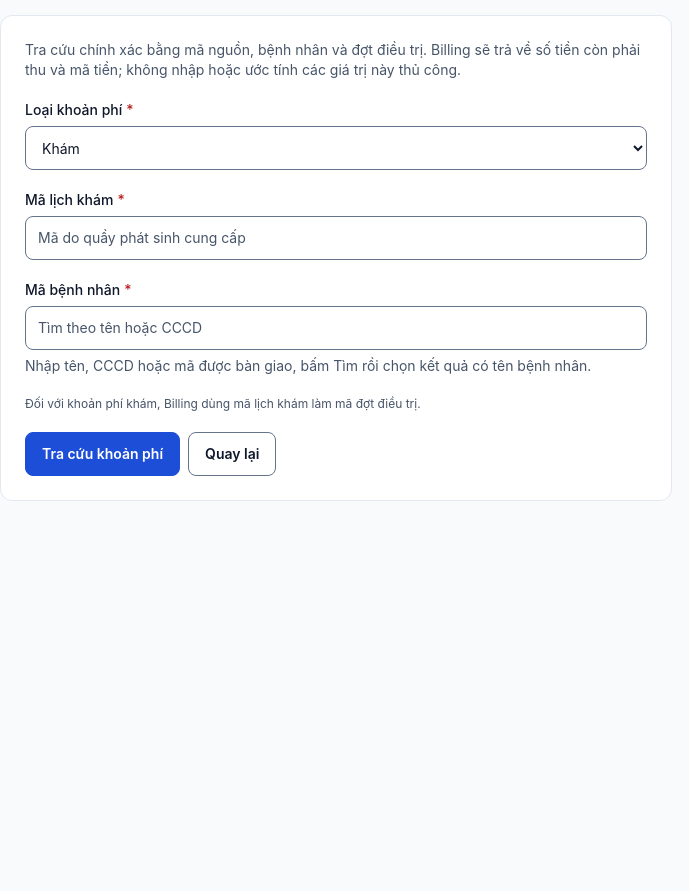
Test: PaymentRequestLookupForm › refreshes the authoritative balance after payment and preserves the receipt if refresh fails
The width and height of the screenshot is (689, 891).
Type "00000000-0000-4000-8000-000000000002" into the field labelled "Mã lịch khám" at (336, 238), box left=25, top=216, right=647, bottom=260
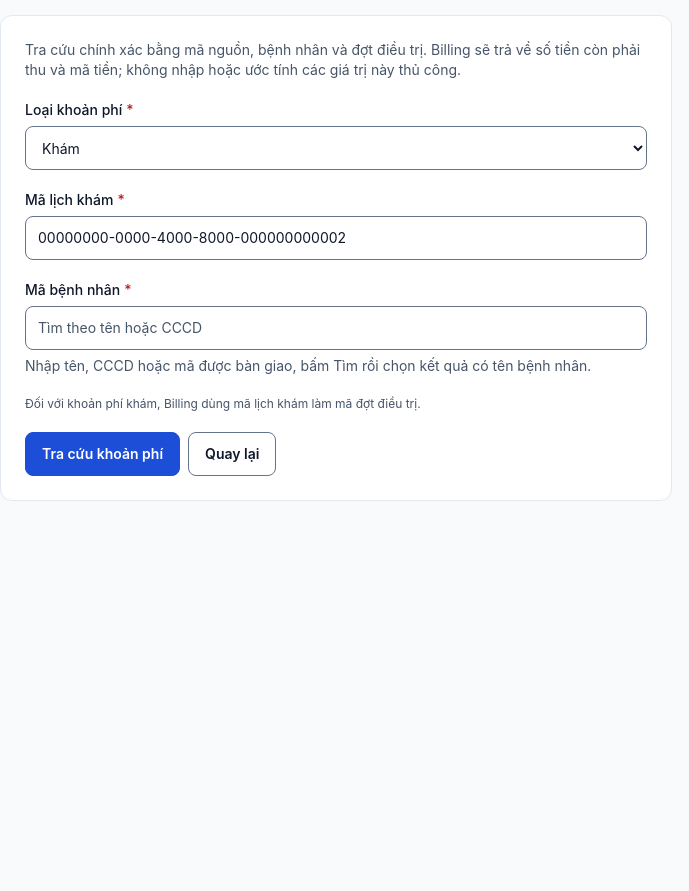
Type "00000000-0000-4000-8000-000000000003" into the field labelled "Mã bệnh nhân" at (336, 328), box left=25, top=306, right=647, bottom=350
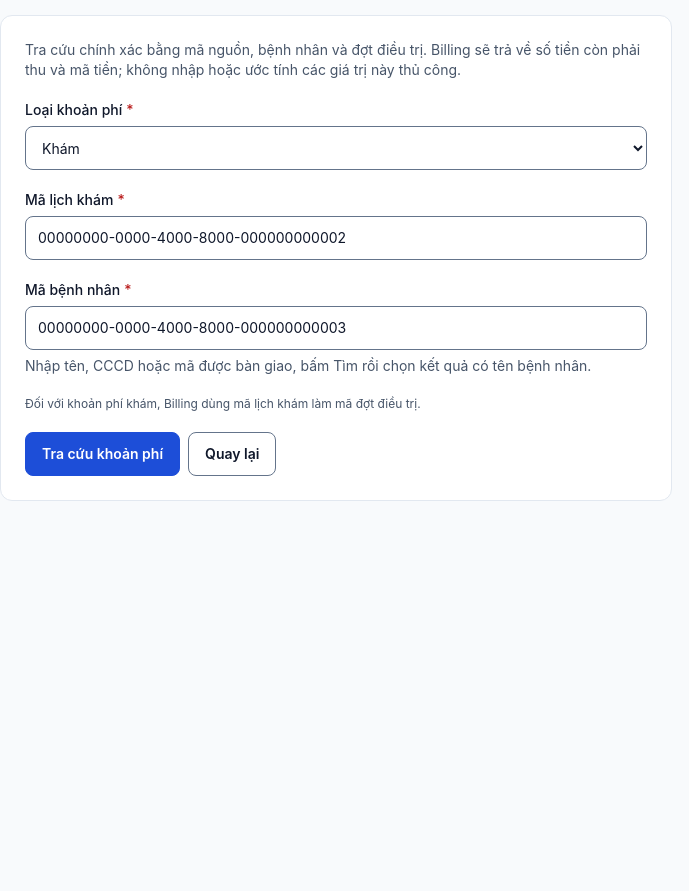
Click the button "Tra cứu khoản phí" at (103, 454), box left=25, top=432, right=180, bottom=476
(page scrolled)
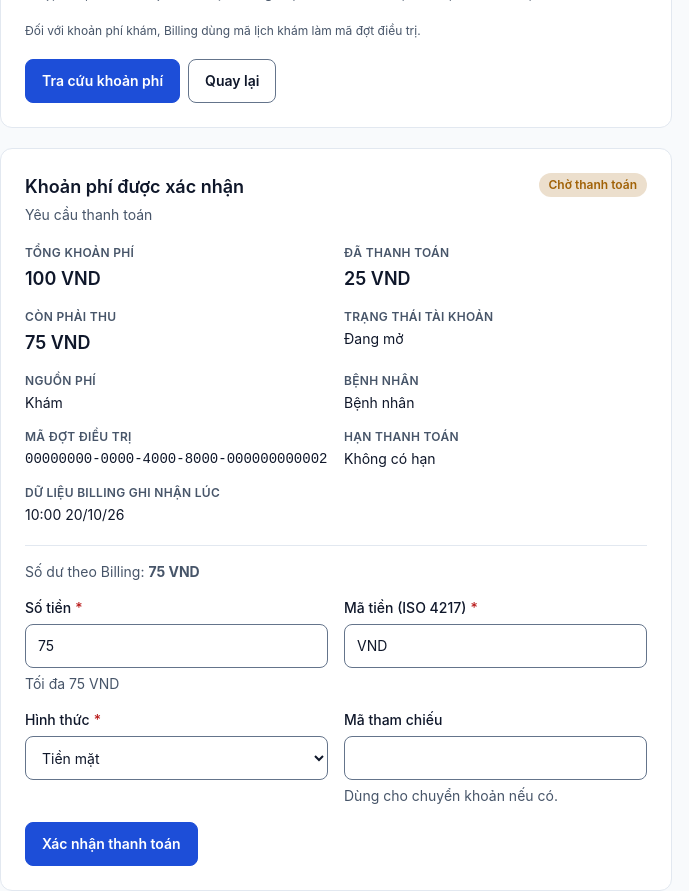
Click the button "Xác nhận thanh toán" at (111, 844), box left=25, top=822, right=198, bottom=866
(page scrolled)
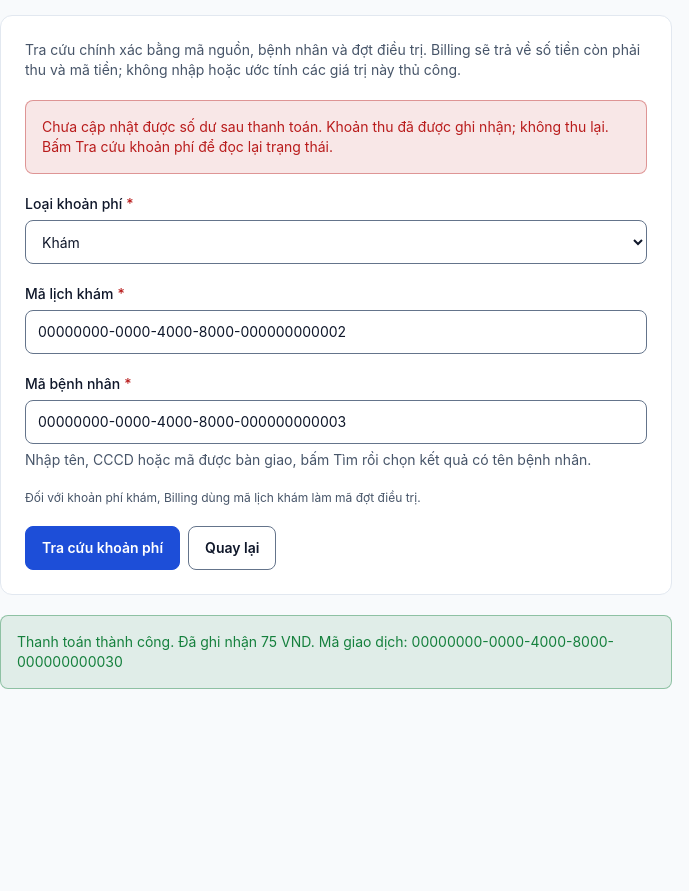
Expected: the text "Thanh toán thành công" is shown, left=17, top=633, right=261, bottom=650
Expected: the 1st message shows "Chưa cập nhật được số dư", left=42, top=118, right=609, bottom=155
Expected: the button "Xác nhận thanh toán" is gone
